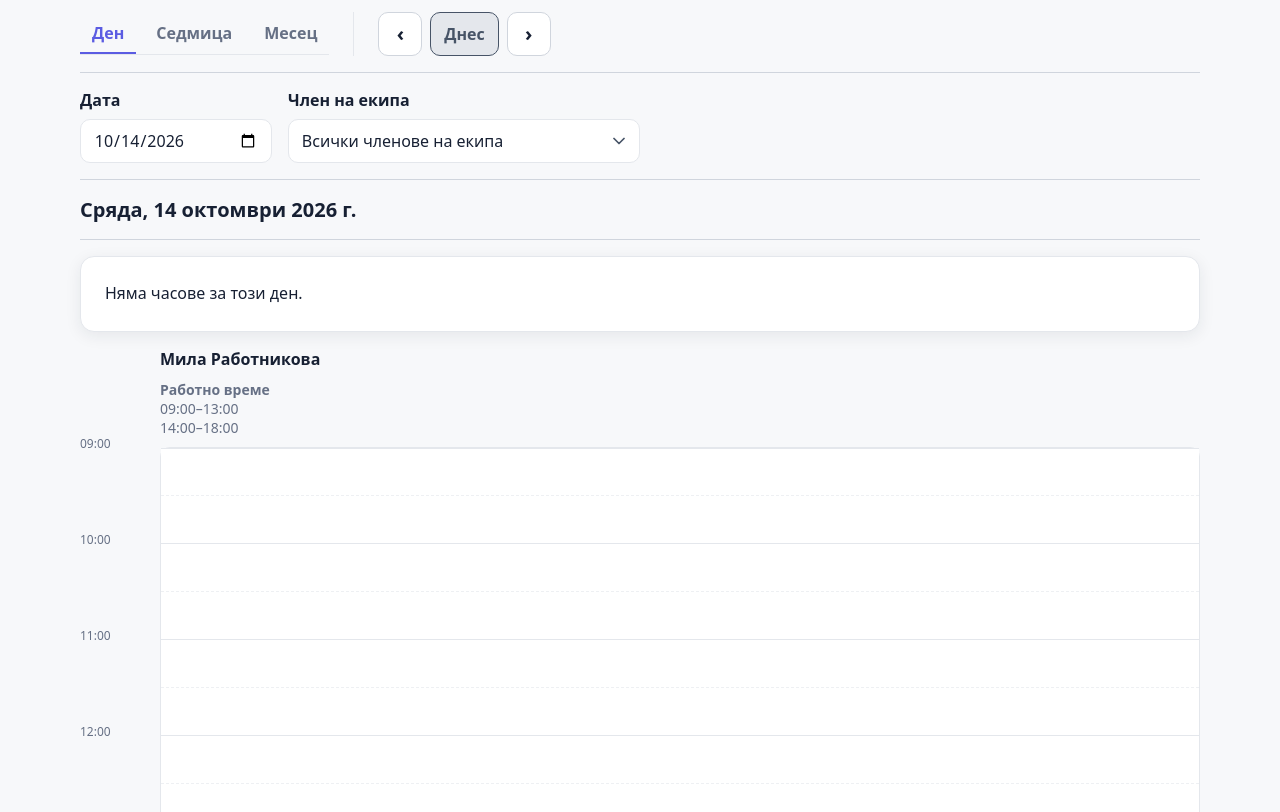
Test: the three views › shows an explicit empty state per view
The width and height of the screenshot is (1280, 812).
Expected: the text "Няма часове за този ден." is shown, [80, 256, 1200, 332]
Click the link "Седмица": (194, 32) [156, 22, 232, 44]
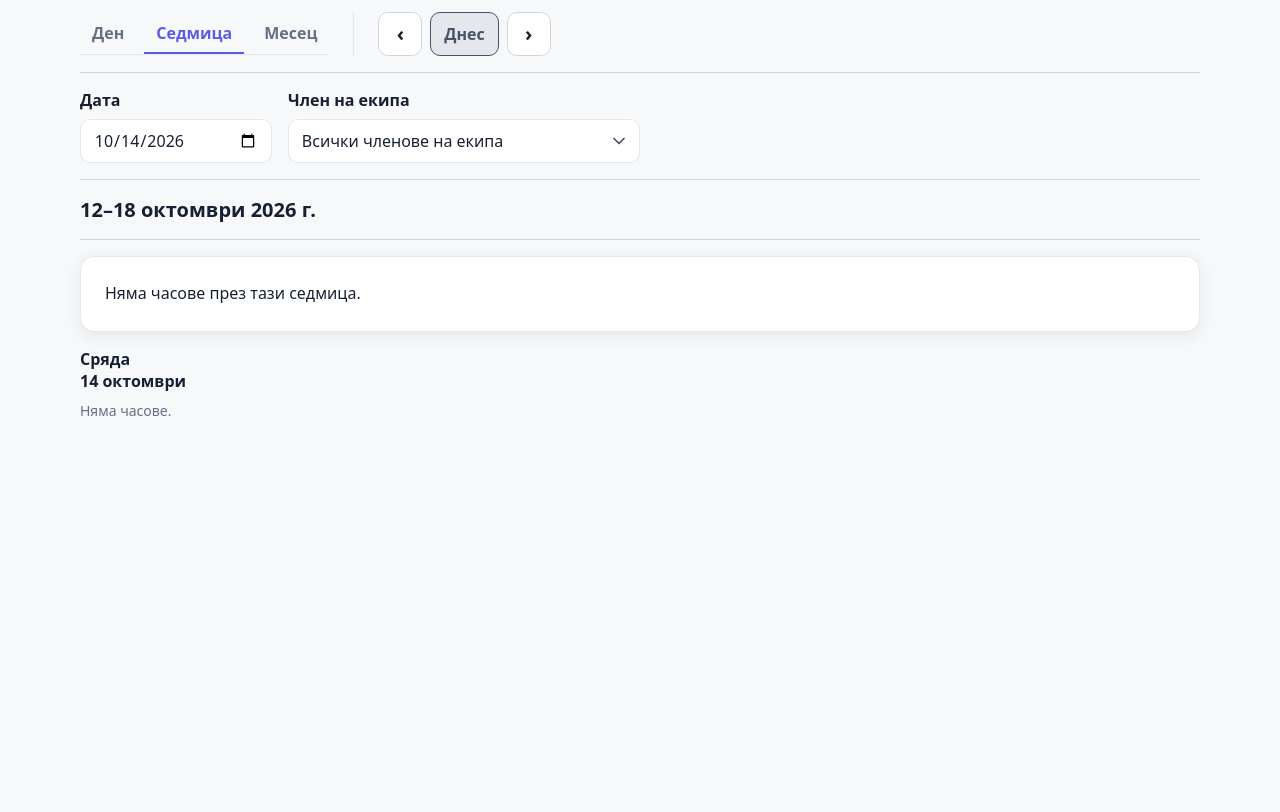
Result: the text "Няма часове през тази седмица." is shown at [80, 256, 1200, 332]
Click the link "Месец": (291, 32) [264, 22, 318, 44]
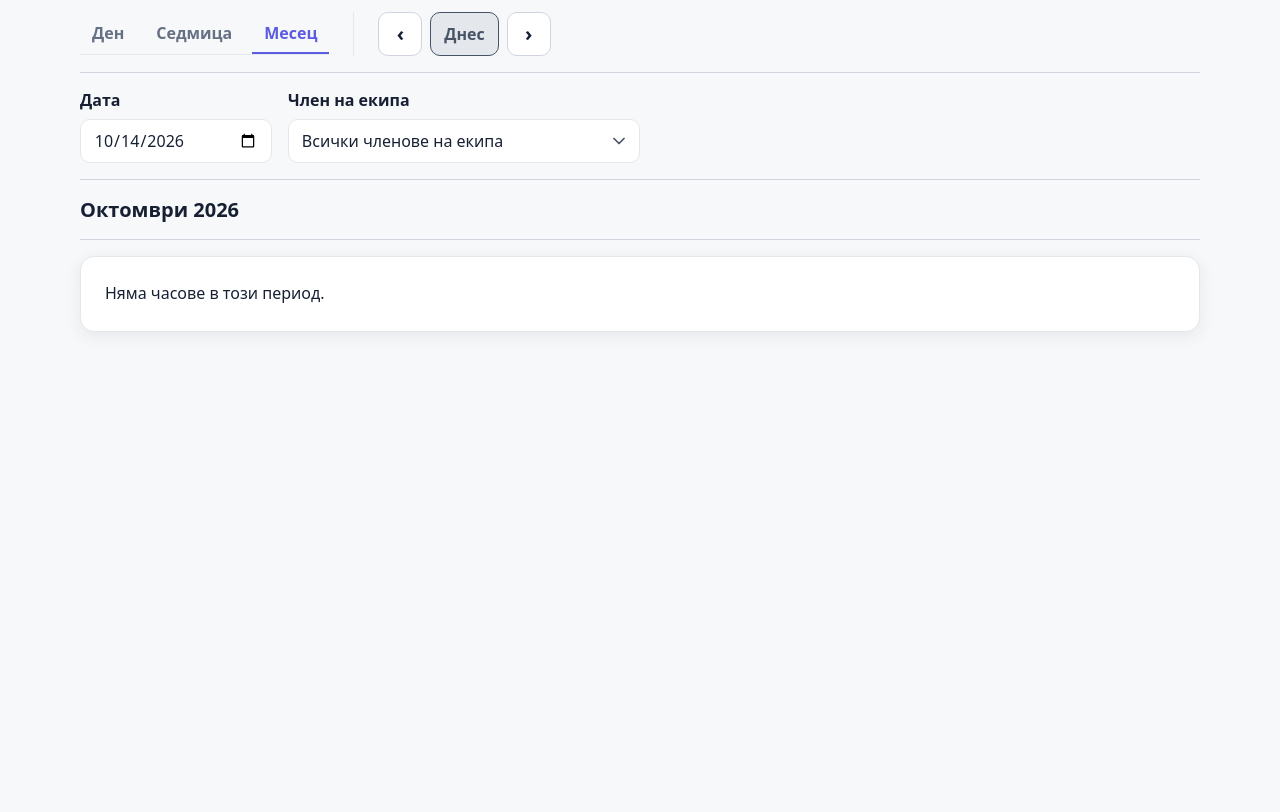
Result: the text "Няма часове в този период." is shown at [80, 256, 1200, 332]
